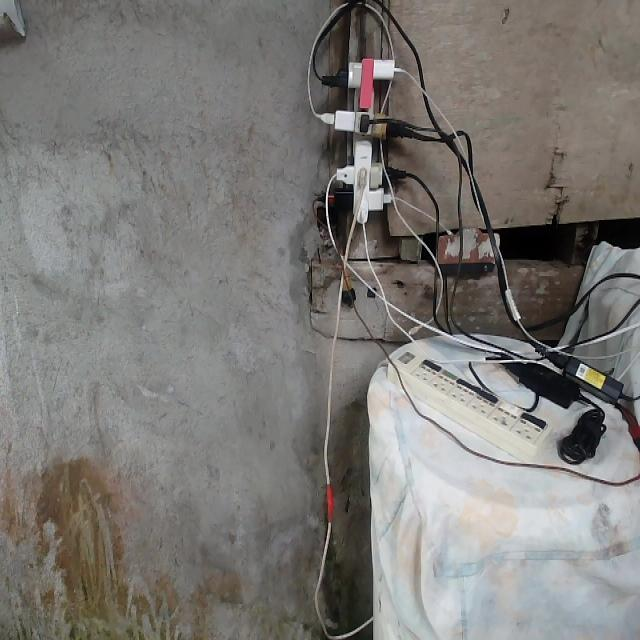-: (327, 52, 399, 223)
